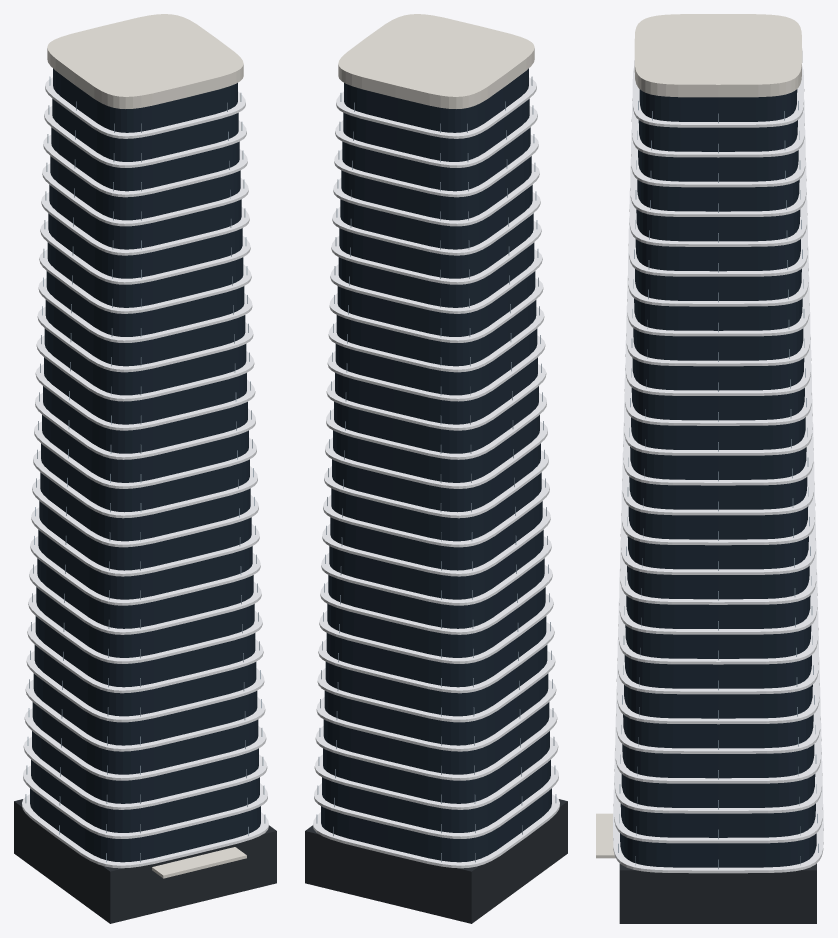
Rendered from tower_slim.glb.
The picture shows the model from 3 angles, left to right: view 1: azimuth 30°, elevation 25°; view 2: azimuth 150°, elevation 25°; view 3: azimuth 270°, elevation 25°; orthographic projection. The views are drawn at different scales.
Parts seen in each view (by area): view 1: TowerSlim; view 2: TowerSlim; view 3: TowerSlim.
Part boxes in pixels (left/top/right/bottom): TowerSlim: left=14, top=14, right=276, bottom=923; TowerSlim: left=305, top=14, right=567, bottom=923; TowerSlim: left=596, top=14, right=823, bottom=923.
Bounding box in the file's own units: 21.4 × 93.2 × 23.1.
